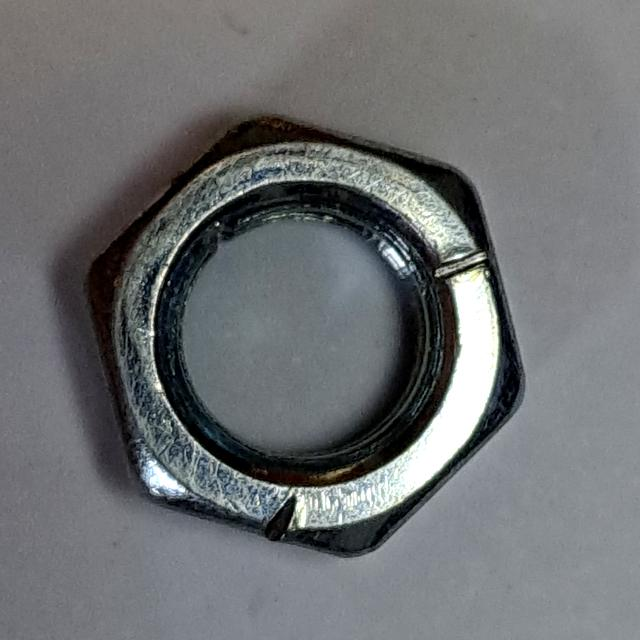Scratches: (74, 98, 539, 575)
